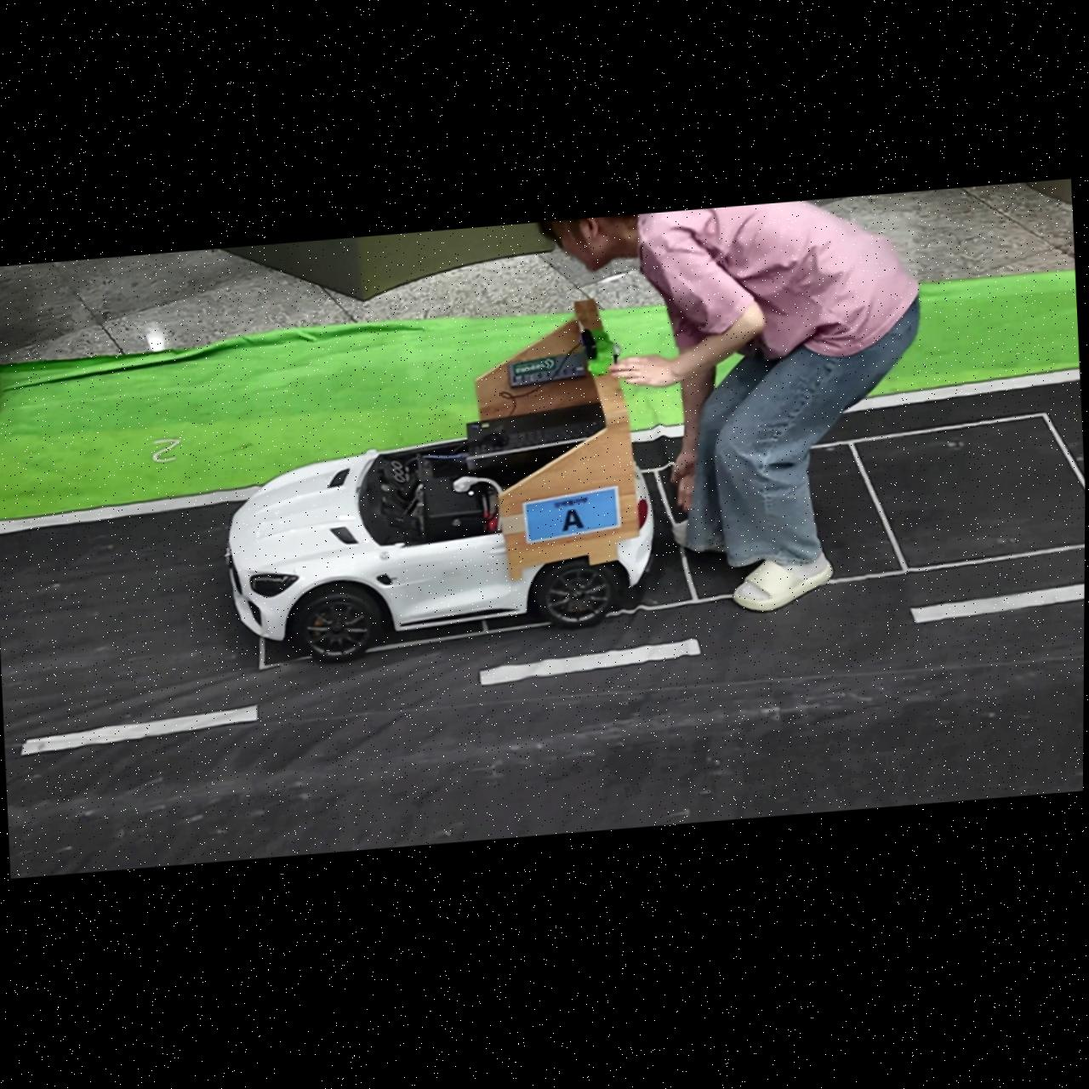broken_line: (21, 705, 257, 754), (480, 637, 701, 684), (910, 583, 1084, 623)
